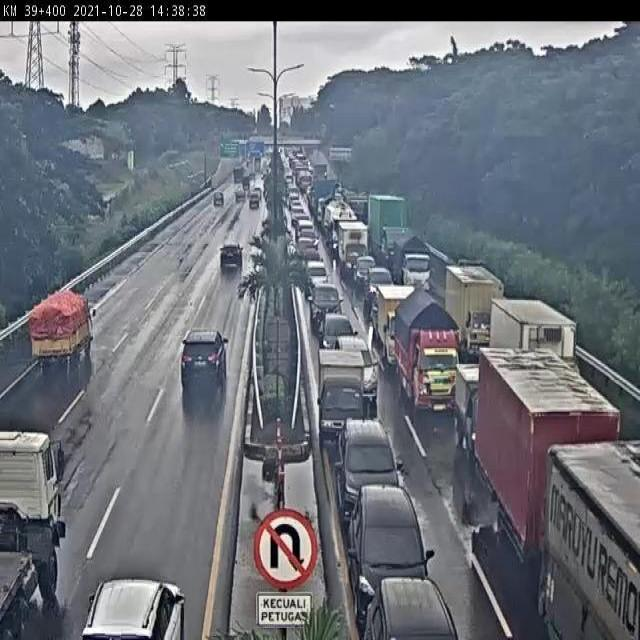big truck: (469, 349, 614, 560), (539, 441, 640, 640), (0, 418, 72, 640), (379, 219, 437, 312), (367, 187, 414, 268)
car: (341, 482, 442, 582), (328, 409, 422, 516), (78, 566, 206, 640), (359, 569, 467, 640), (176, 326, 233, 386), (336, 334, 381, 398), (306, 282, 348, 330), (213, 236, 250, 287), (320, 309, 359, 355), (366, 265, 397, 312), (354, 253, 382, 295), (301, 259, 334, 292), (212, 187, 225, 208)
small truck: (398, 286, 469, 418), (439, 253, 510, 379), (493, 303, 584, 393), (28, 286, 106, 374), (311, 349, 373, 434), (373, 287, 413, 372), (453, 362, 485, 462), (333, 216, 373, 284)
